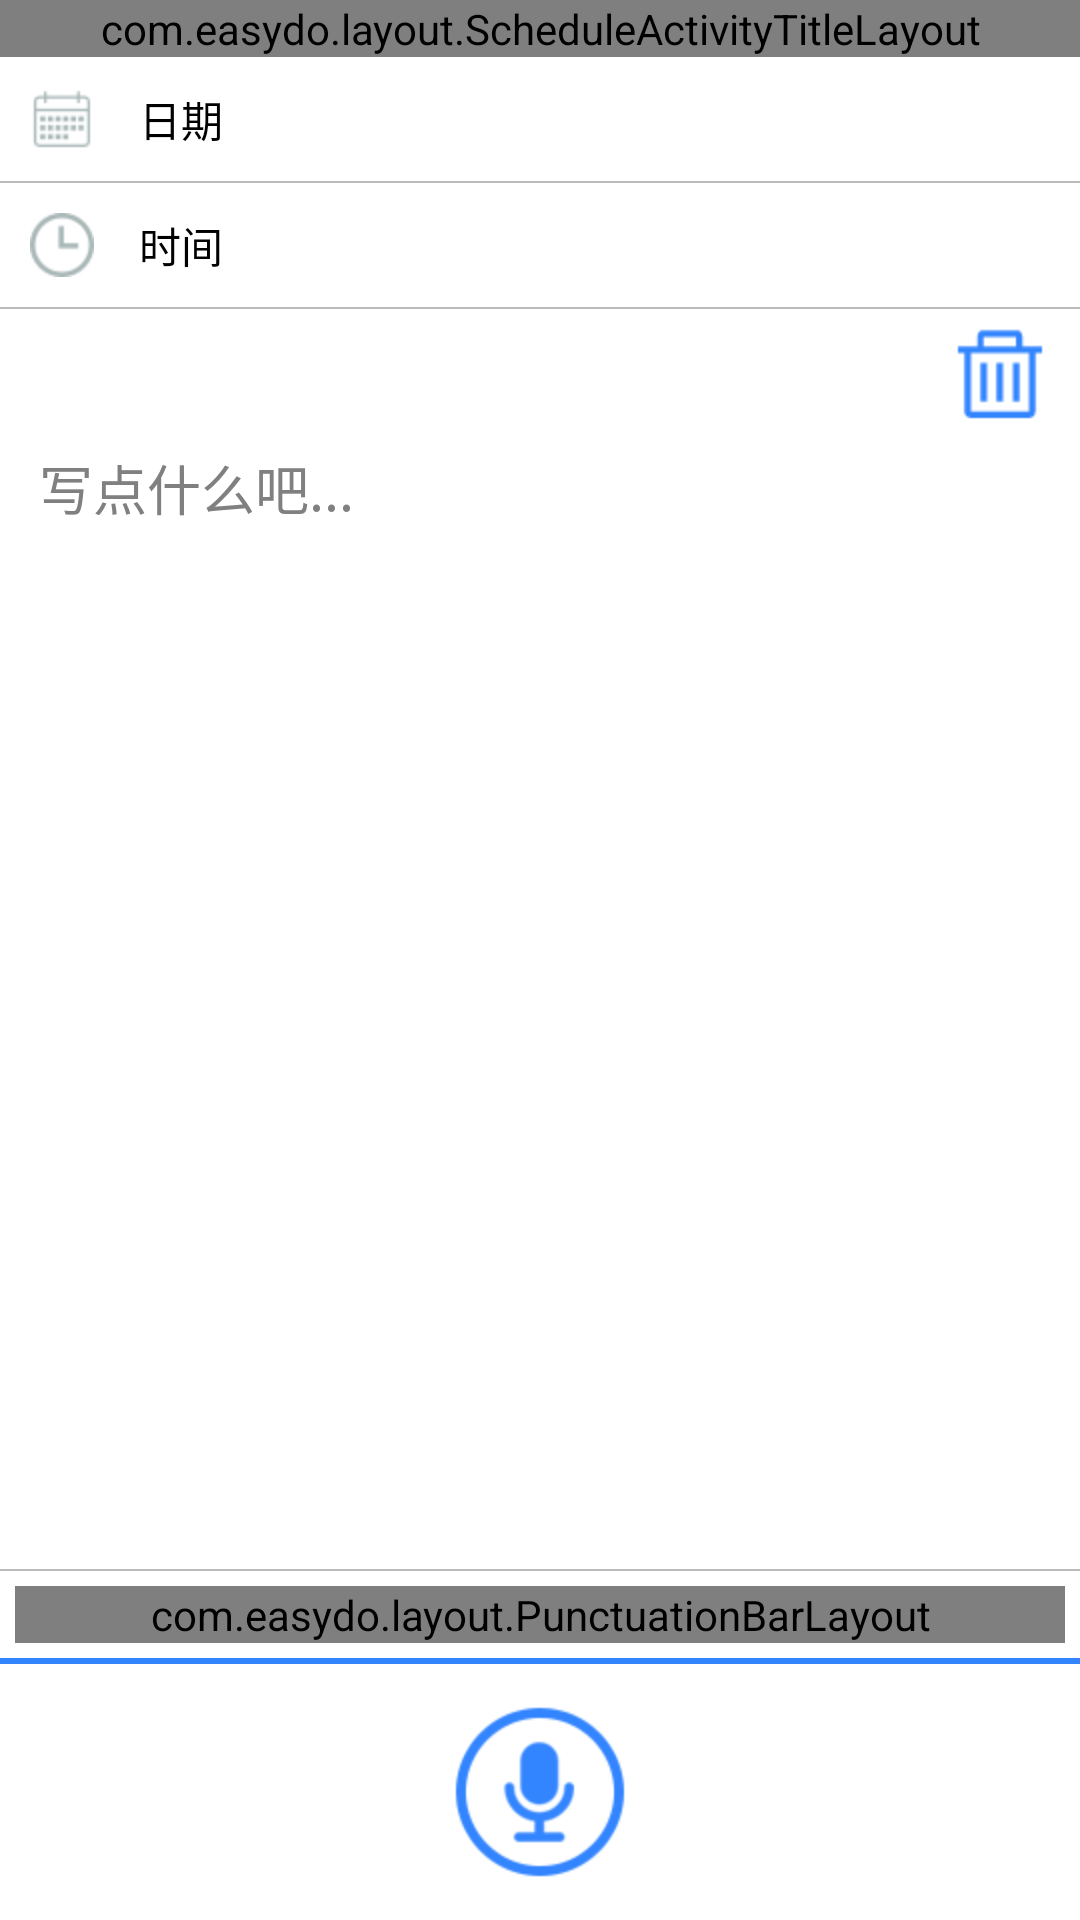

Screen size 1080px×1920px. Icon name, then its box in pixels as (x1, y1, x2, y2):
clear: (957, 329, 1043, 419)
date: (33, 91, 90, 147)
dictation: (455, 1707, 625, 1877)
time: (30, 213, 94, 277)
